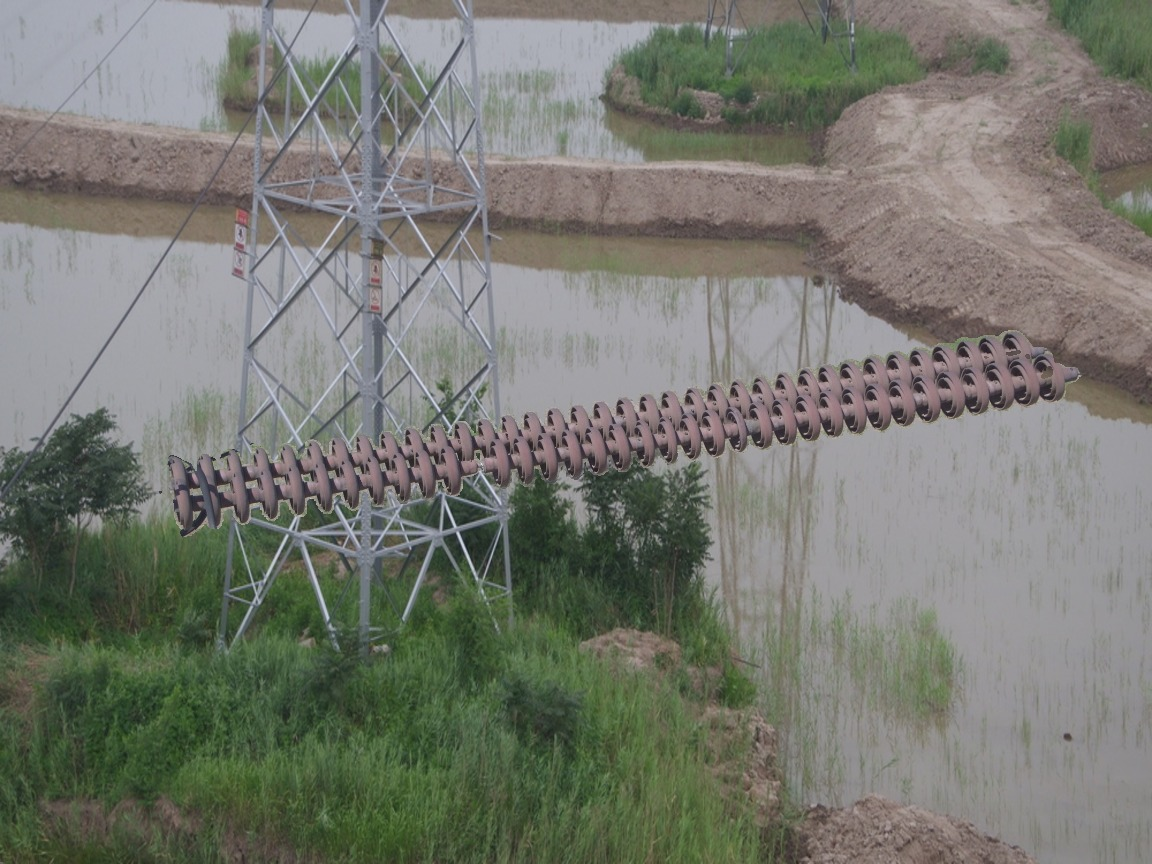defect: (439, 437, 517, 499)
